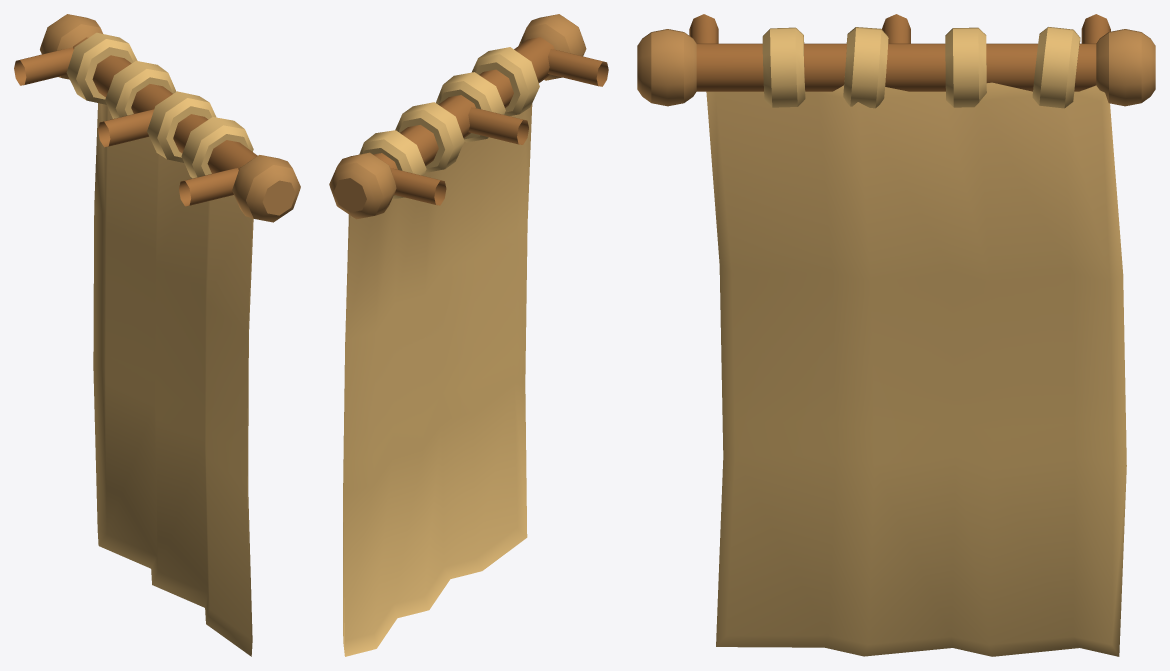
The model's file is Curtains_Short_1_C_L.glb.
The picture shows the model from 3 angles, left to right: view 1: azimuth 30°, elevation 25°; view 2: azimuth 150°, elevation 25°; view 3: azimuth 270°, elevation 25°; orthographic projection. The views are drawn at different scales.
Visible parts, largest first — view 1: Curtains_Short_1_C_L; view 2: Curtains_Short_1_C_L; view 3: Curtains_Short_1_C_L.
Boxes of the visible parts, box(x1,y1,x2,y2) form: Curtains_Short_1_C_L: box(14, 14, 300, 656); Curtains_Short_1_C_L: box(329, 14, 608, 656); Curtains_Short_1_C_L: box(637, 14, 1155, 656).
Size of the model in its own units: 0.2275 by 1.16 by 0.8807.
1 material, 1 textured.
